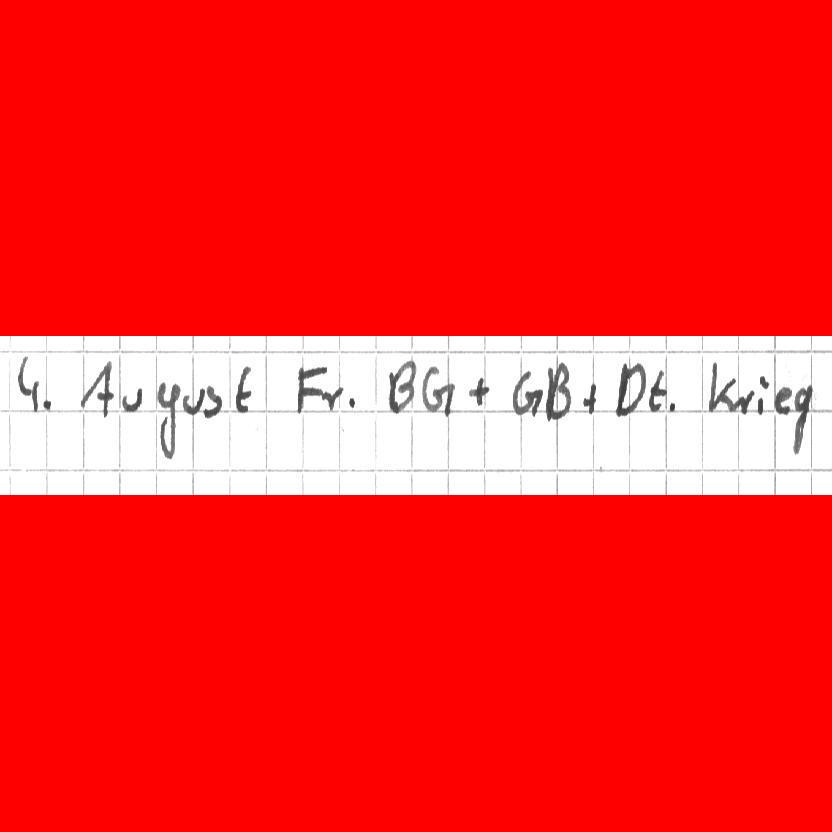Char: (611, 359, 648, 420), (78, 359, 114, 417), (156, 379, 180, 462), (422, 361, 456, 419), (292, 362, 327, 418), (543, 359, 573, 422), (387, 358, 418, 418), (508, 367, 544, 417), (707, 359, 738, 416), (791, 383, 815, 454), (17, 353, 42, 411), (231, 361, 254, 413), (646, 369, 667, 415), (200, 382, 223, 418), (318, 384, 345, 413), (119, 385, 144, 413), (180, 387, 205, 415), (469, 375, 490, 408), (771, 384, 792, 415), (733, 389, 755, 417), (582, 381, 599, 414), (756, 372, 768, 418), (341, 394, 359, 409), (39, 395, 55, 409), (665, 398, 678, 415)
